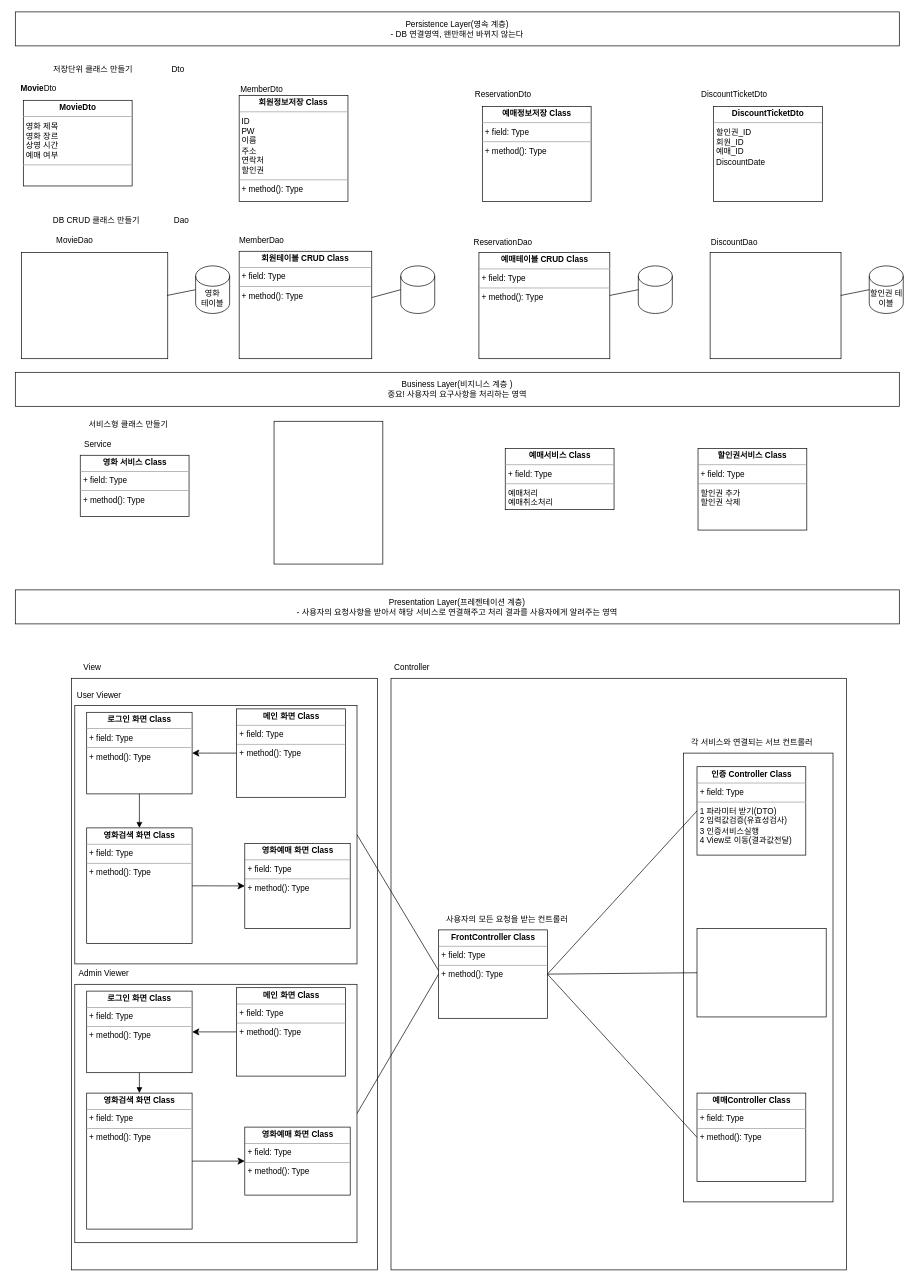
The diagram is 916 pixels wide and 1282 high, and some of its shapes have lost their labels. Here are the shapes that lost their labels. From the top down, the centre of each, then its label:
At pixel 94 305: "영화 테이블 CRUD Class + field: Type 영화 등록 영화 정보 수정 영화 삭제".
At pixel 417 289: "회원 테이블".
At pixel 655 289: "예매 테이블".
At pixel 775 305: "Discount Dao + field: Type +method(): Type".
At pixel 328 492: "인증서비스 Class + field: Type 회원가입 회원조회 회원수정 회원탈퇴 회원 로그인 매니저 로그인 로그아웃 권한처리".
At pixel 761 972: "영화Controller Class + field: Type + method(): Type".
